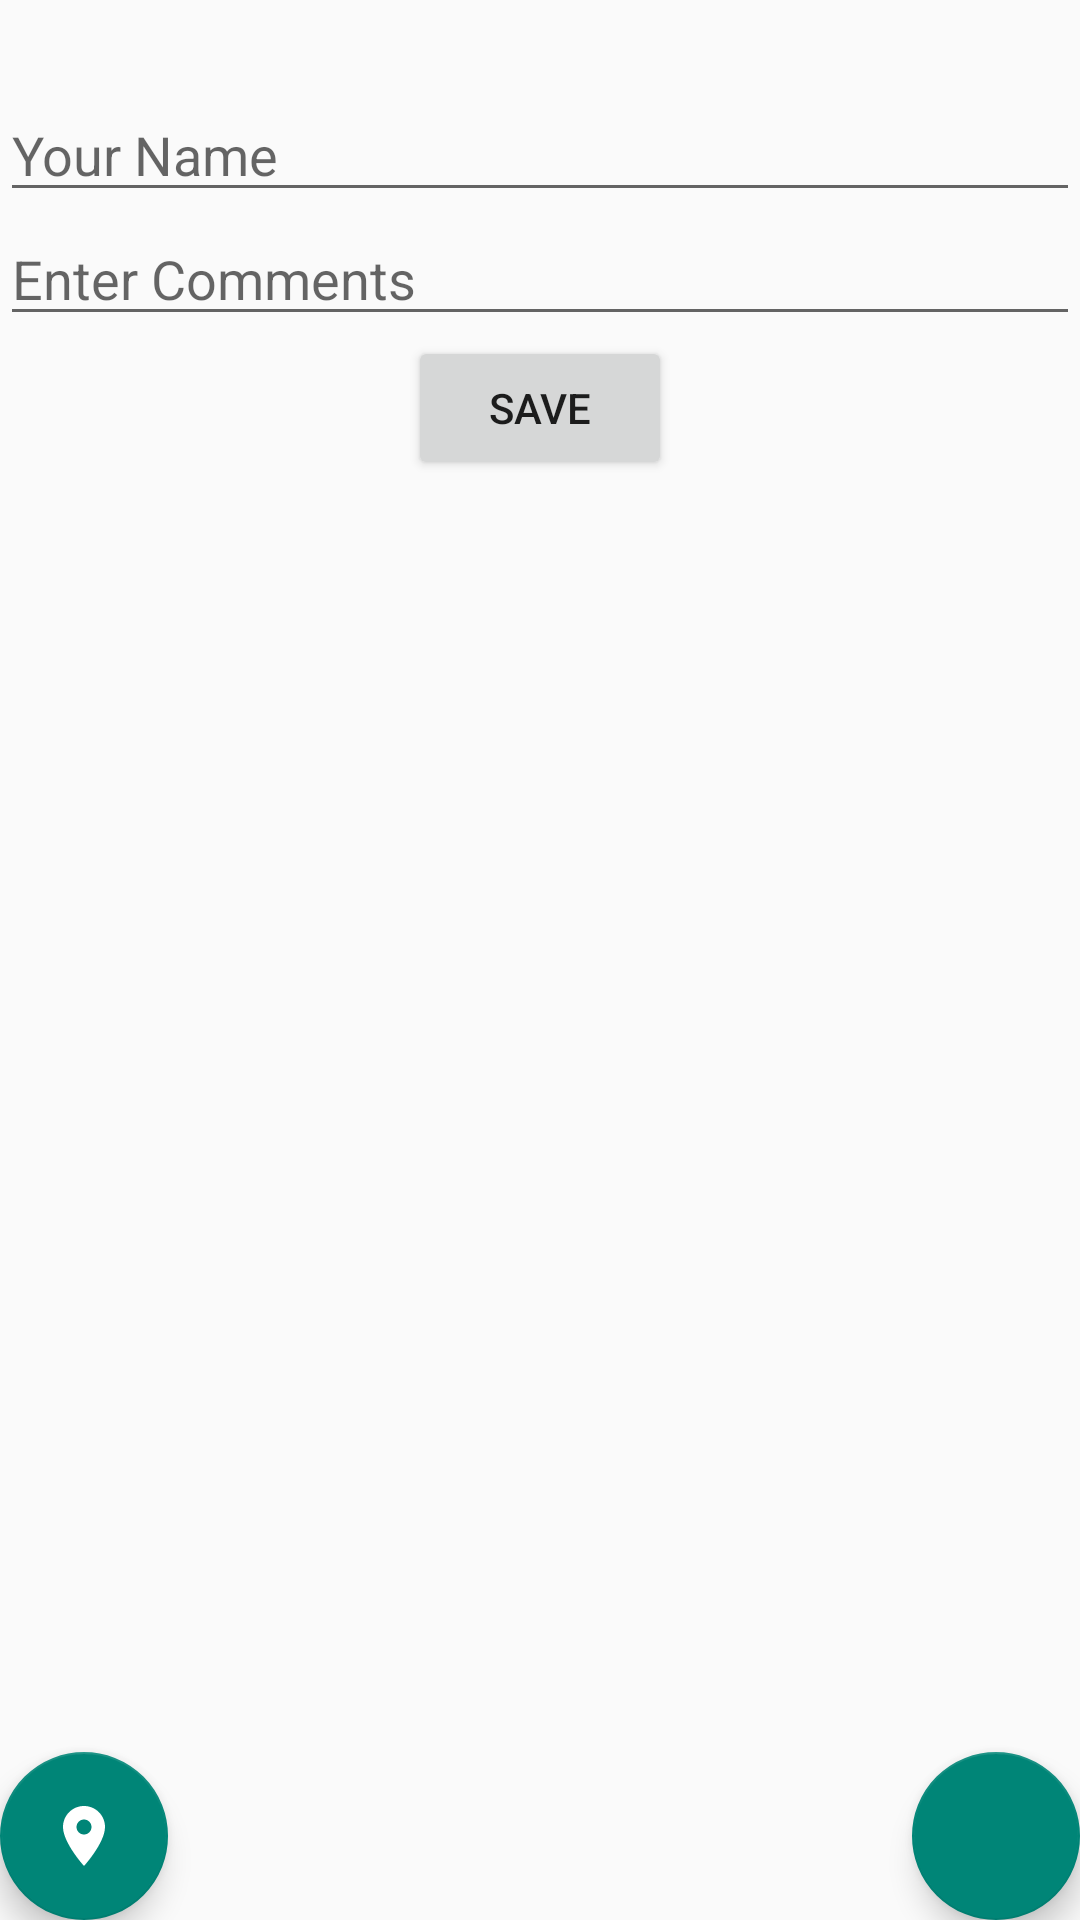

Icon bounding boxes for this 1080px x 1920px phone screenshot, format (x1, y1, x2, y2):
location on: (0, 1752, 168, 1920)
